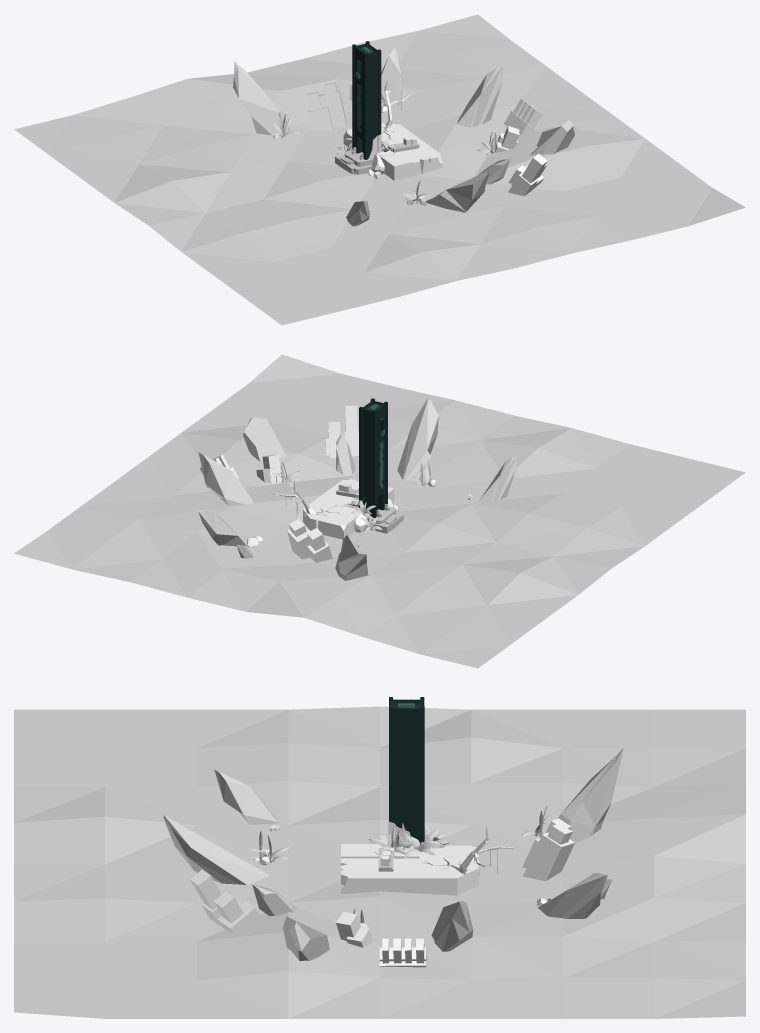
Rendered from TowerSceneModel.fbx.
3 renders of one model, top to bottom at view 1: azimuth 30°, elevation 25°; view 2: azimuth 150°, elevation 25°; view 3: azimuth 270°, elevation 25°, orthographic. The views are drawn at different scales.
Visible parts, largest first — view 1: Plane, Tower, Garden, LowPolyRock.010, LowPolyRock.013, LowPolyRock.011, LowPolyRock.014, LowPolyRock.012, Cube.006, TowerGround; view 2: Plane, Tower, Garden, LowPolyRock.011, LowPolyRock.013, LowPolyRock.012, LowPolyRock.014, LowPolyRock.010, LowPolyRock.015, LowPolyRock.017, TowerGround; view 3: Plane, Garden, Tower, LowPolyRock.011, LowPolyRock.010, LowPolyRock.014, LowPolyRock.015, LowPolyRock.013, Cube.006, LowPolyRock.012, LowPolyRock.017, Cube.028 (+2 smaller).
Part boxes in pixels (x1,y1,x2,y2): Plane: (14, 14, 745, 325); Tower: (352, 41, 381, 159); Garden: (343, 123, 442, 180); LowPolyRock.010: (233, 61, 289, 135); LowPolyRock.013: (457, 66, 502, 127); LowPolyRock.011: (425, 170, 489, 212); LowPolyRock.014: (381, 46, 401, 109); LowPolyRock.012: (530, 120, 574, 155); Cube.006: (319, 90, 346, 127); TowerGround: (335, 150, 373, 174); Plane: (14, 354, 745, 668); Tower: (359, 398, 387, 517); Garden: (303, 479, 394, 539); LowPolyRock.011: (397, 397, 438, 481); LowPolyRock.013: (198, 452, 253, 506); LowPolyRock.012: (243, 417, 286, 461); LowPolyRock.014: (198, 510, 252, 546); LowPolyRock.010: (335, 535, 368, 580); LowPolyRock.015: (479, 456, 517, 502); LowPolyRock.017: (336, 433, 355, 475); TowerGround: (367, 506, 403, 533); Plane: (14, 706, 745, 1018); Garden: (341, 844, 478, 895); Tower: (389, 697, 424, 844); LowPolyRock.011: (163, 815, 269, 884); LowPolyRock.010: (557, 748, 623, 843); LowPolyRock.014: (538, 873, 607, 918); LowPolyRock.015: (214, 769, 278, 824); LowPolyRock.013: (431, 900, 473, 951); Cube.006: (523, 832, 574, 881); LowPolyRock.012: (283, 916, 329, 960); LowPolyRock.017: (252, 885, 296, 915); Cube.028: (190, 869, 221, 909).
Size of the model in its own units: 8946 by 2953 by 8946.
